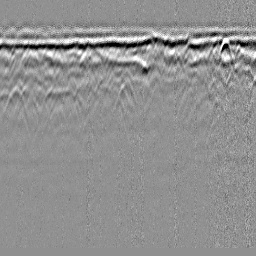cavity: (120, 76, 136, 105)
